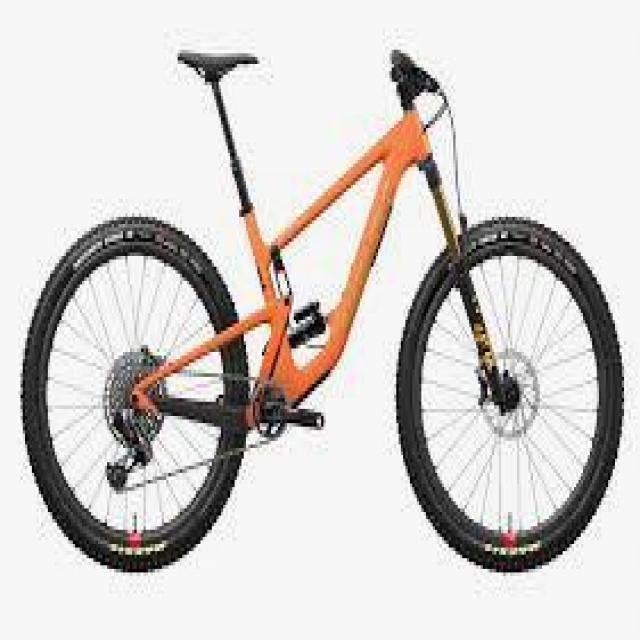bicycle: (67, 37, 621, 592)
